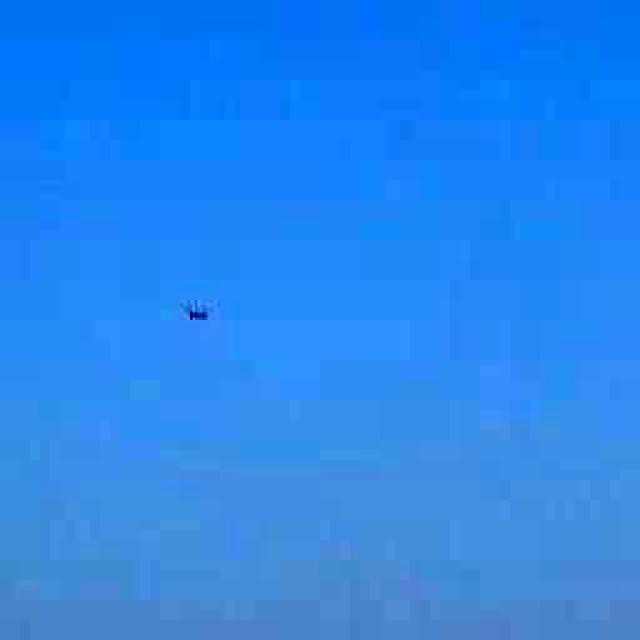bird: (164, 289, 226, 341)
